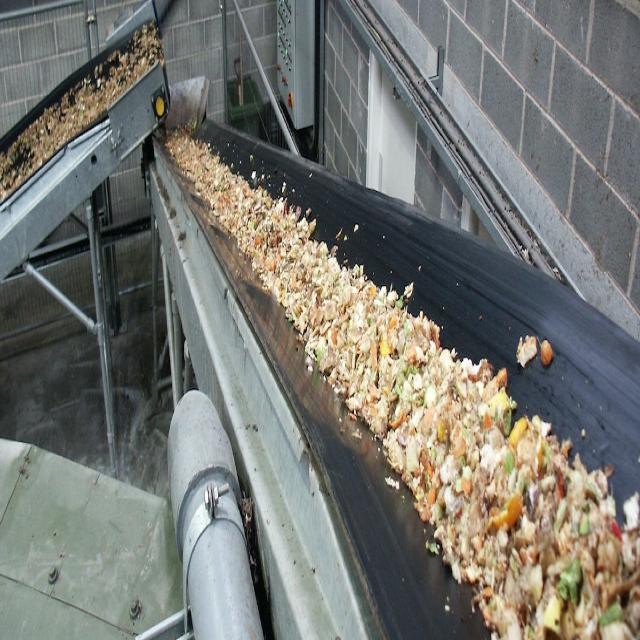Food -Biodegradable-: (168, 117, 640, 640), (0, 15, 159, 195)
